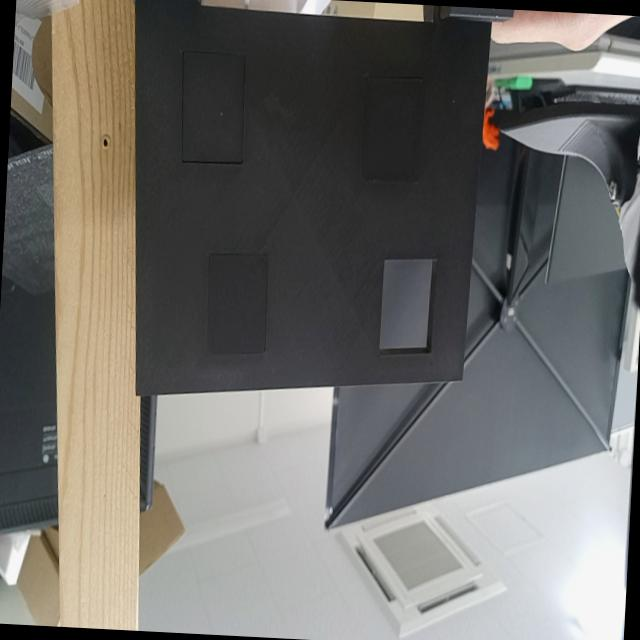Obstacle: (381, 259, 439, 350)
Wall: (136, 0, 491, 394)
